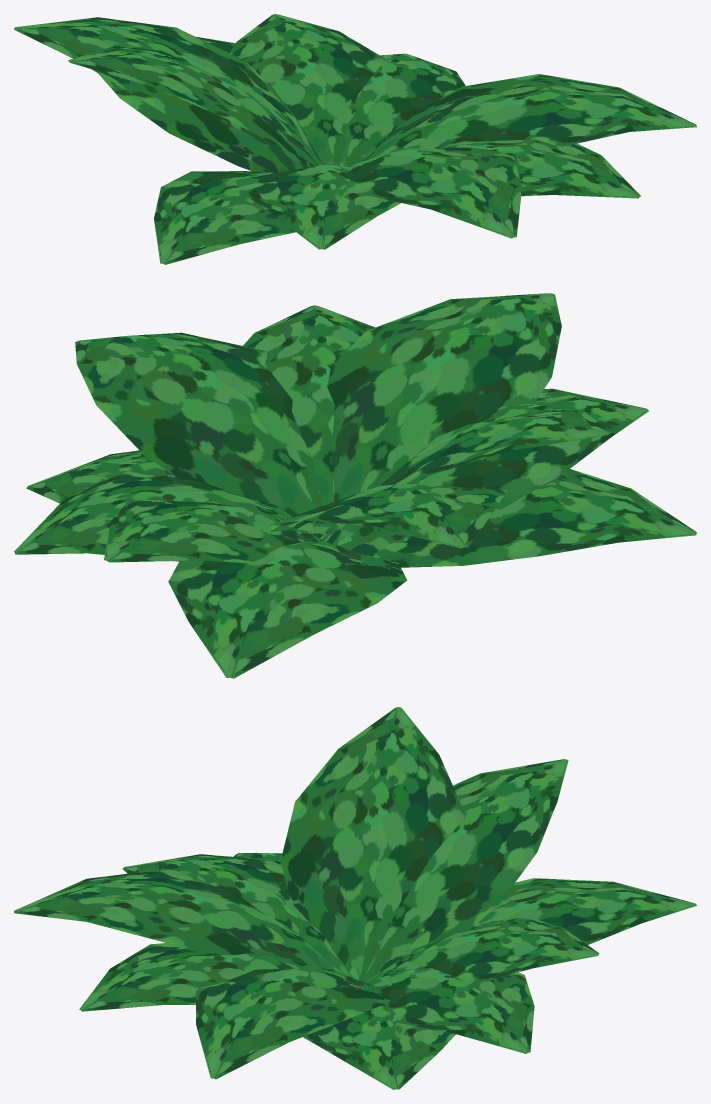
File: nat_tropical_monstera.glb
3 views of the same model, one above another, from view 1: azimuth 30°, elevation 25°; view 2: azimuth 150°, elevation 25°; view 3: azimuth 270°, elevation 25° (orthographic). The views are drawn at different scales.
Parts seen in each view (by area): view 1: foliage; view 2: foliage; view 3: foliage.
Part boxes in pixels (x1,y1,x2,y2): foliage: (14,14,696,264); foliage: (14,293,696,678); foliage: (14,707,696,1089).
Bounding box in the file's own units: 2.17 × 0.6733 × 2.49.
1 material, 1 textured.
